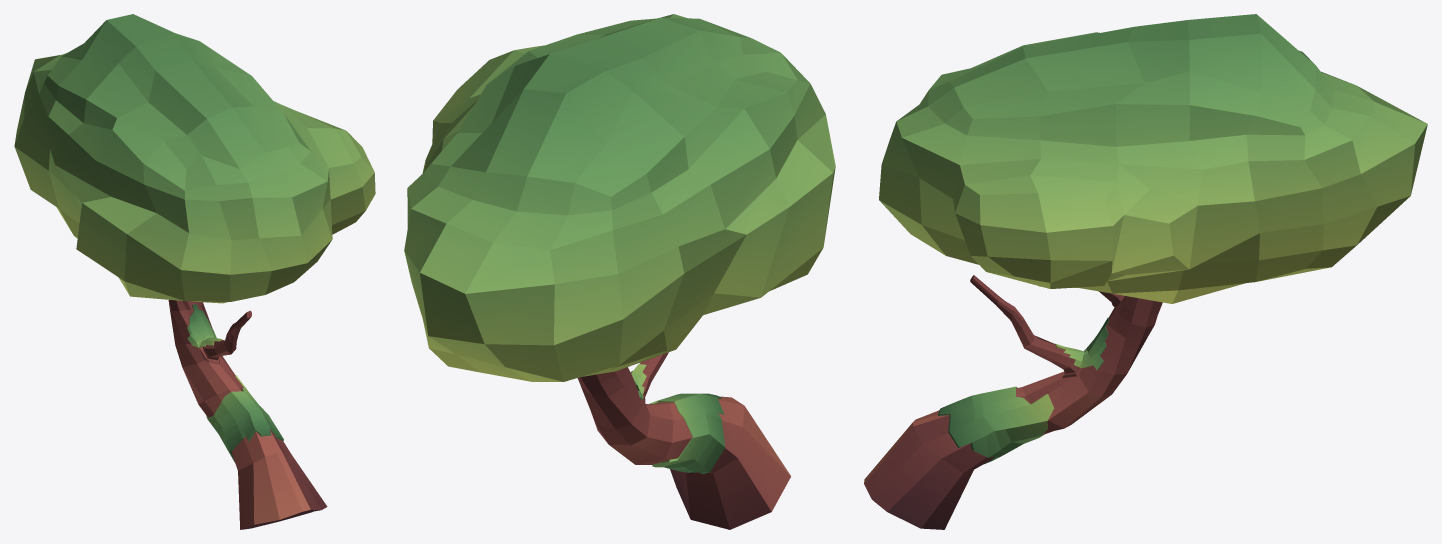
The model's file is Level2_CurveTree_Green.fbx.
3 views of the same model, side by side, from view 1: azimuth 30°, elevation 25°; view 2: azimuth 150°, elevation 25°; view 3: azimuth 270°, elevation 25° (orthographic). The views are drawn at different scales.
Parts seen in each view (by area): view 1: Treetop_LowPoly, Tree_LowPoly1, polySurface1; view 2: Treetop_LowPoly, Tree_LowPoly1, polySurface1; view 3: Treetop_LowPoly, Tree_LowPoly1, polySurface1.
Part boxes in pixels (bbox=[...]): Treetop_LowPoly: bbox=[14, 14, 375, 303]; Tree_LowPoly1: bbox=[168, 300, 327, 529]; polySurface1: bbox=[187, 304, 283, 462]; Treetop_LowPoly: bbox=[404, 14, 835, 381]; Tree_LowPoly1: bbox=[577, 352, 790, 529]; polySurface1: bbox=[630, 364, 725, 474]; Treetop_LowPoly: bbox=[879, 14, 1427, 303]; Tree_LowPoly1: bbox=[864, 275, 1162, 529]; polySurface1: bbox=[938, 317, 1108, 463].
Size of the model in its own units: 12.64 by 20 by 19.27.
